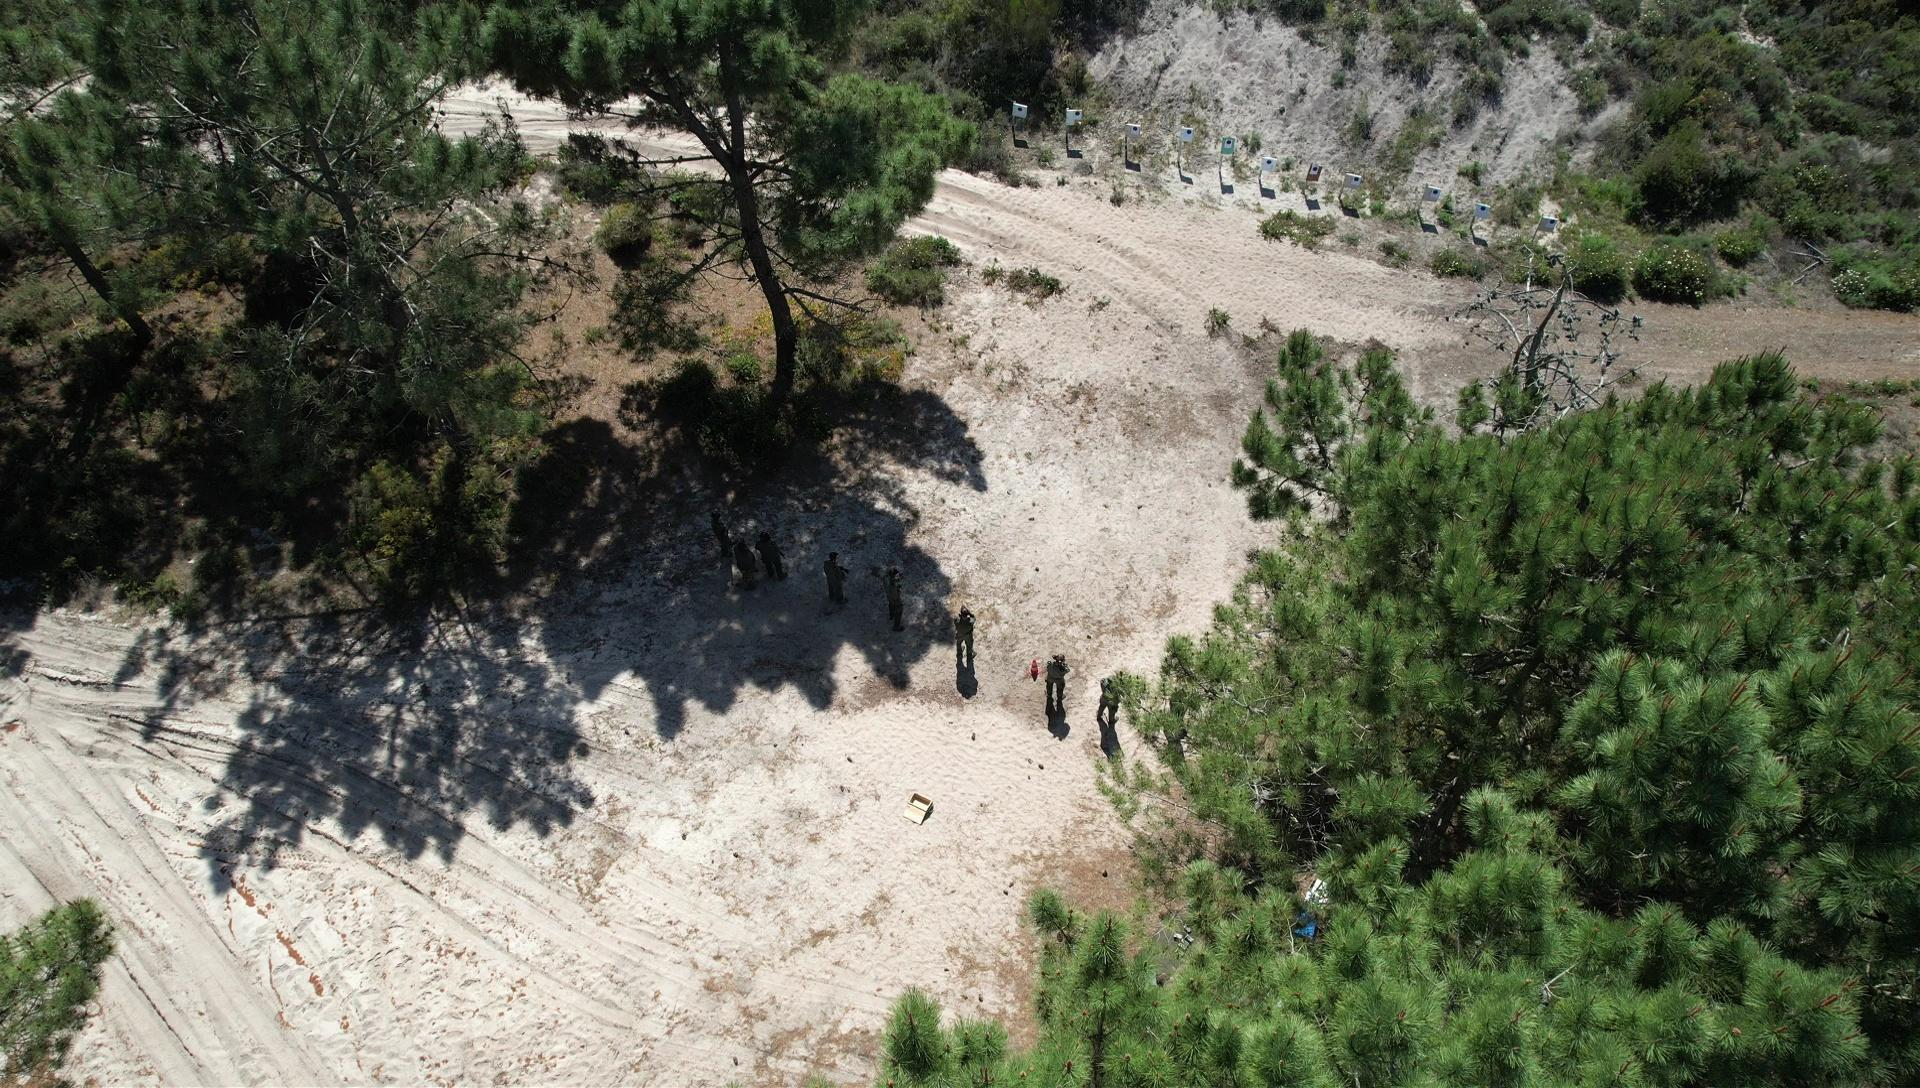Soldier: (938, 582, 986, 679), (814, 539, 860, 629), (1036, 645, 1076, 720), (877, 559, 910, 644), (756, 524, 791, 593), (1089, 666, 1122, 736), (731, 539, 758, 593), (709, 506, 732, 555)
